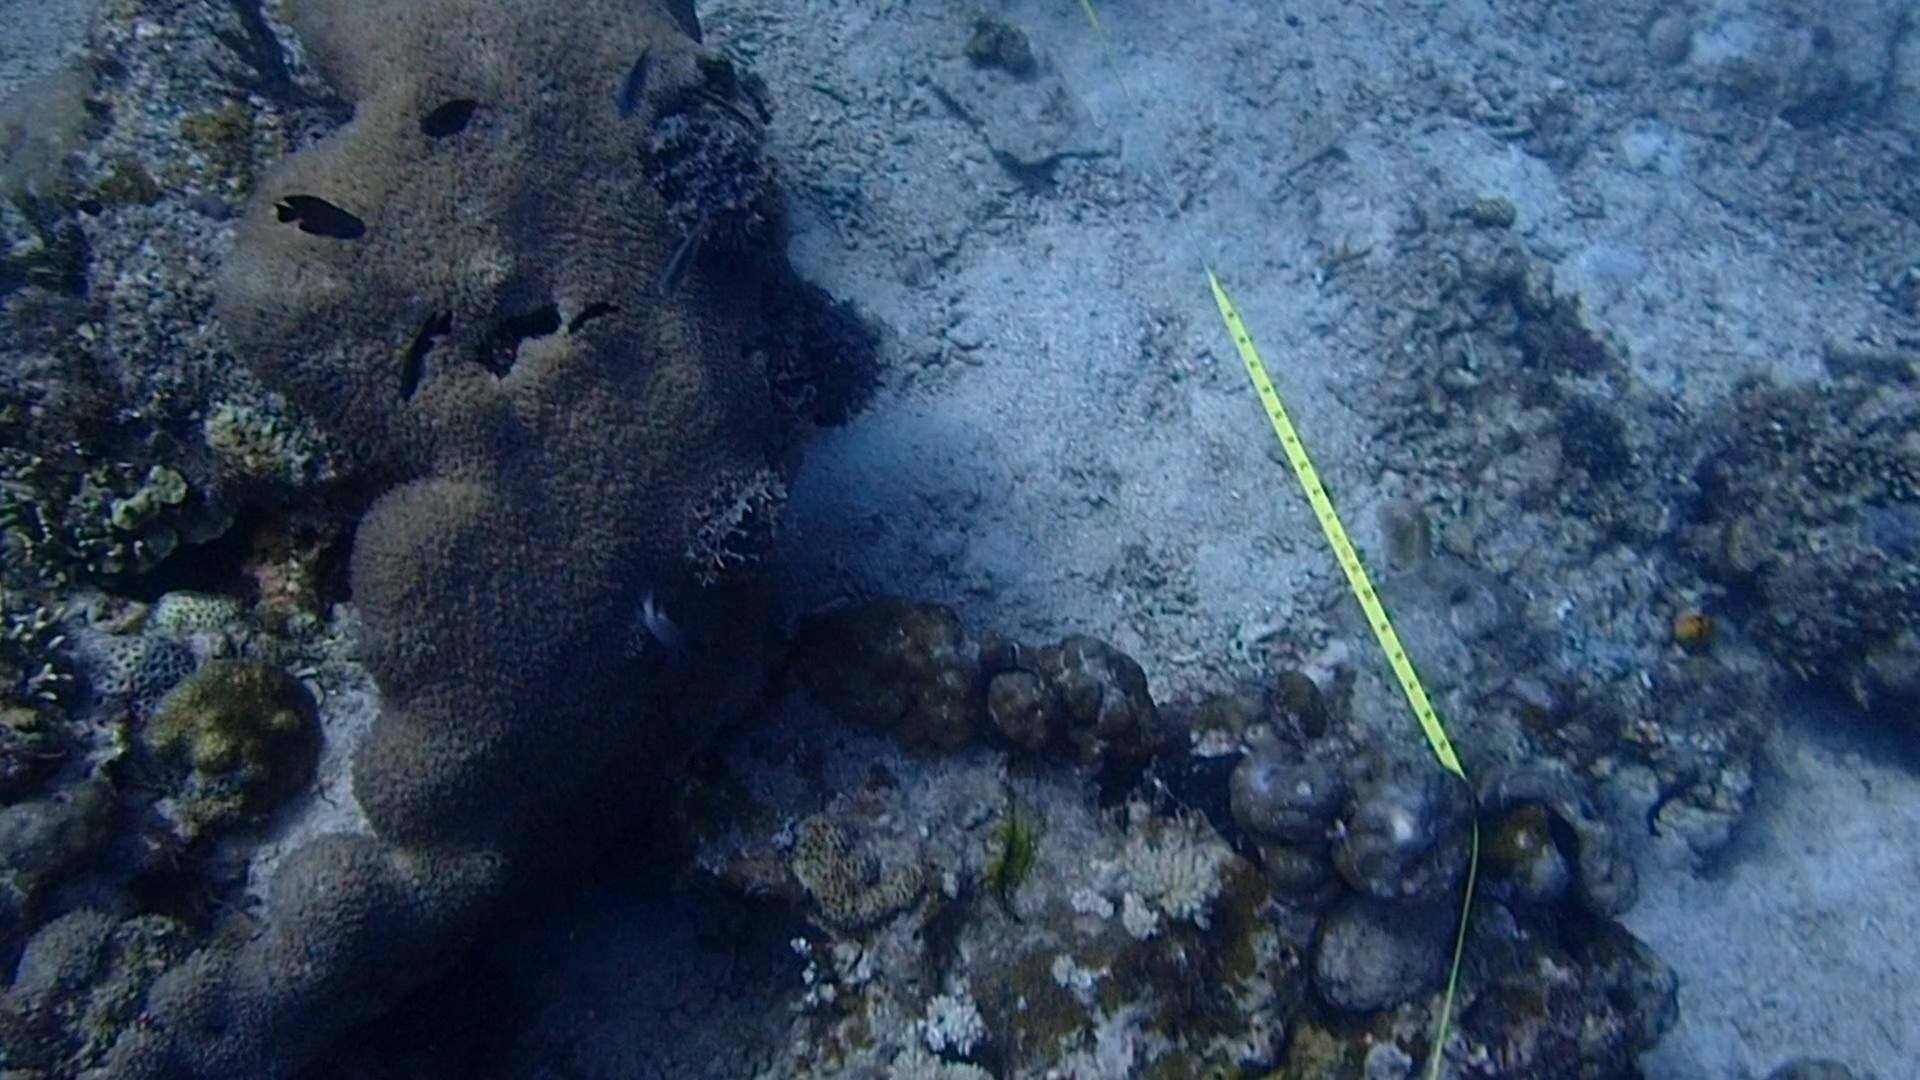Dark Fish: (376, 309, 469, 404), (269, 181, 371, 251), (1636, 756, 1702, 853), (405, 75, 488, 149), (562, 289, 616, 344)
Light Fish: (591, 32, 671, 123), (649, 200, 715, 303), (626, 578, 694, 675)
